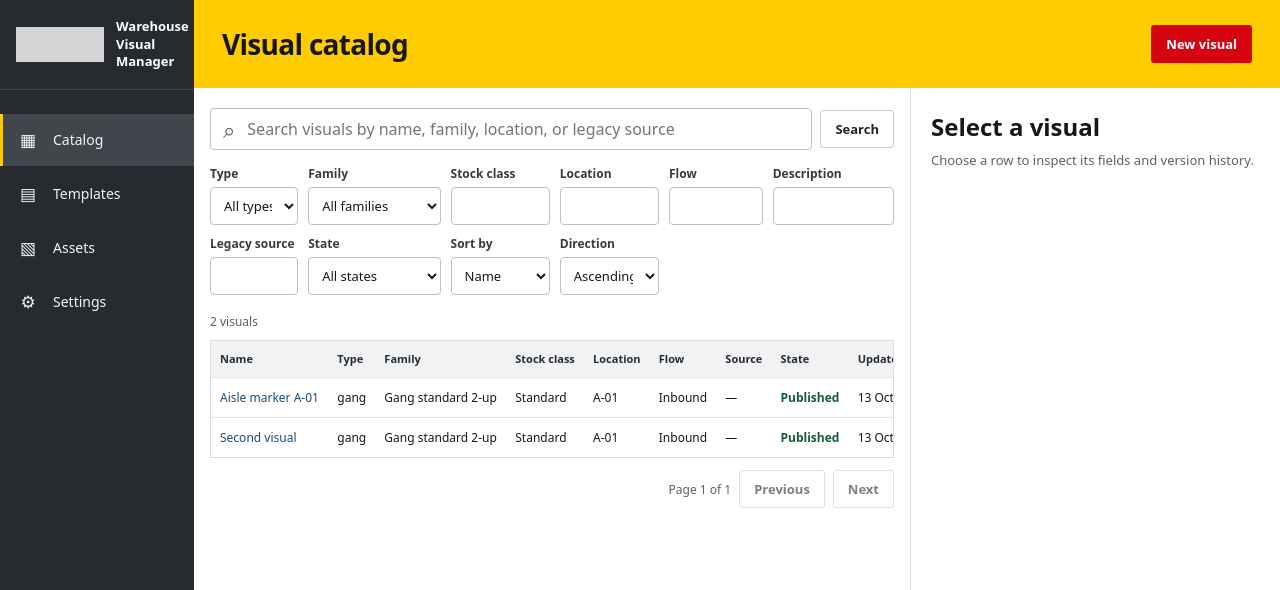
Test: CatalogApp › ignores a stale detail success after a newer visual is selected
The image size is (1280, 590).
Click the row "Aisle marker A-01".
click(591, 397)  # box [211,377,971,417]
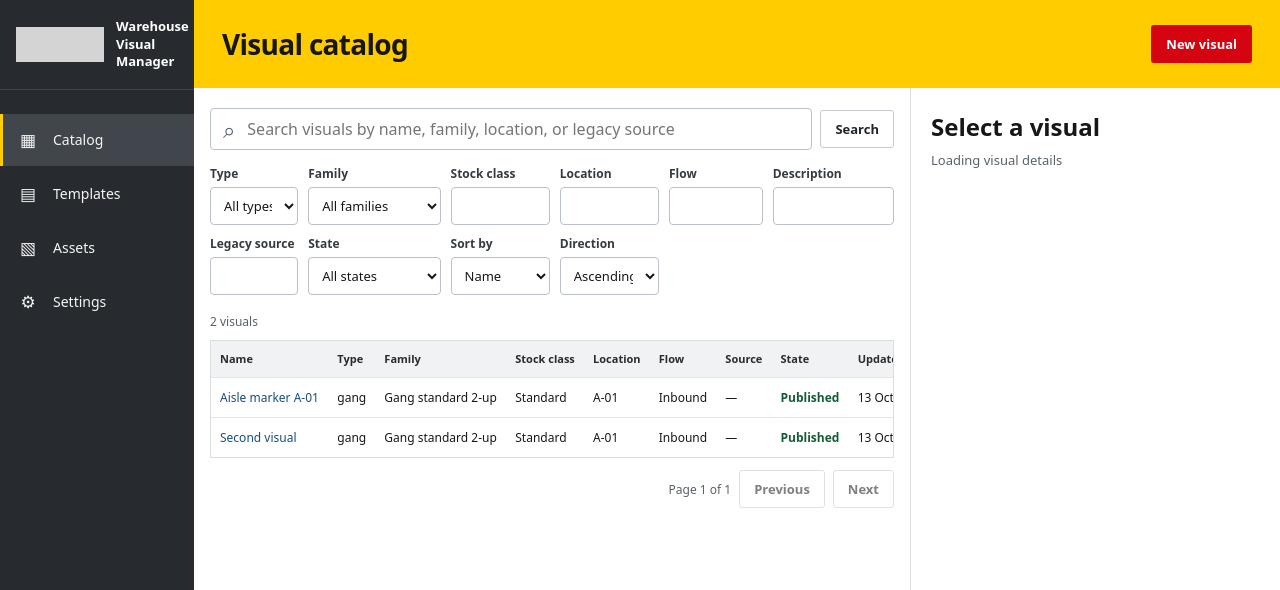
Click the row "Second visual".
click(591, 437)  # box [211,417,971,457]
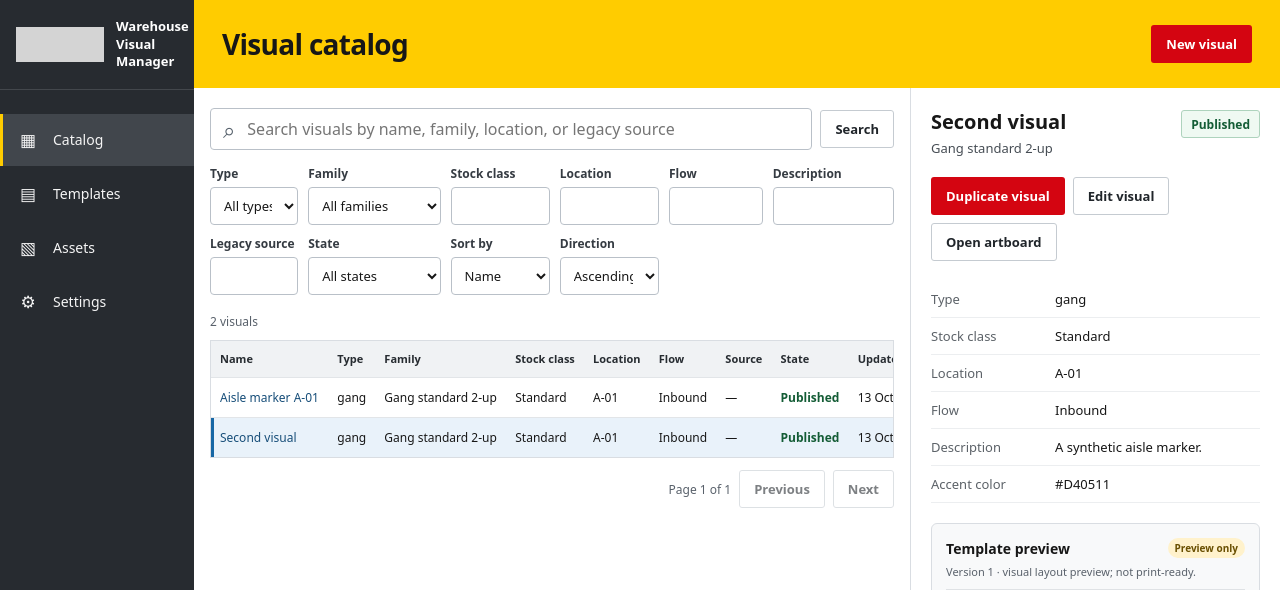
Expected: the heading "Second visual" is shown, [931,110,1066,134]
